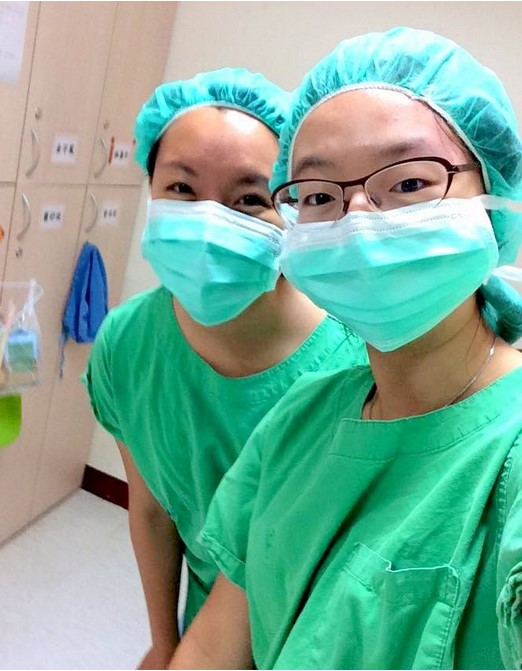face_with_mask: (273, 34, 517, 355), (131, 68, 292, 328)
